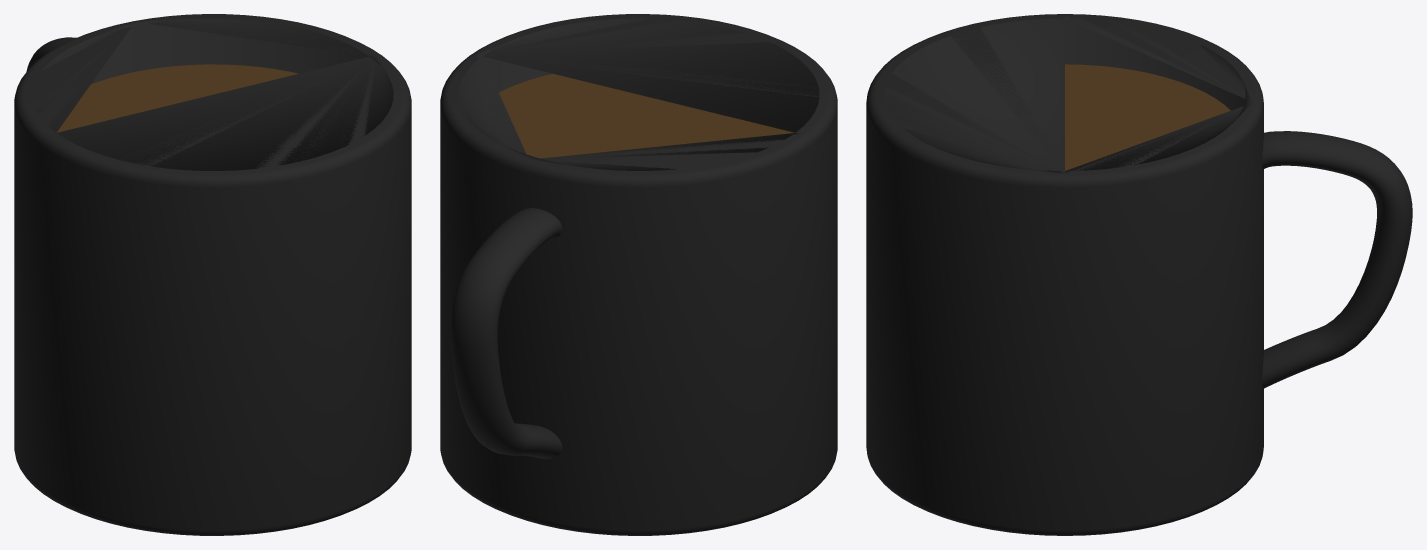
Rendered from coffee2_cup.fbx.
3 renders of one model, left to right at view 1: azimuth 30°, elevation 25°; view 2: azimuth 150°, elevation 25°; view 3: azimuth 270°, elevation 25°, orthographic.
Parts seen in each view (by area): view 1: Cylinder; view 2: Cylinder; view 3: Cylinder.
Boxes of the visible parts, x1=… form: Cylinder: x1=14, y1=14, x2=411, y2=535; Cylinder: x1=440, y1=14, x2=837, y2=535; Cylinder: x1=866, y1=14, x2=1412, y2=535.
Size of the model in its own units: 40 by 40 by 54.96.
